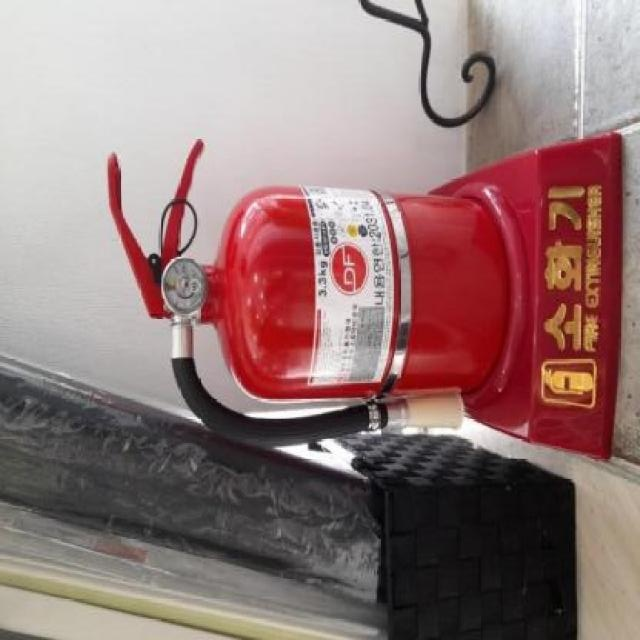fire extinguisher: (105, 140, 507, 451)
